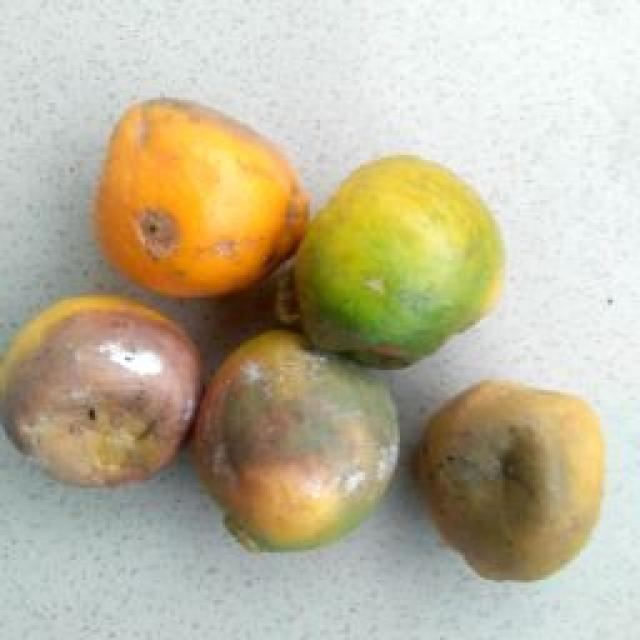Bad_Orange: (194, 330, 399, 549), (95, 102, 308, 297), (0, 298, 200, 484), (418, 381, 599, 579)
